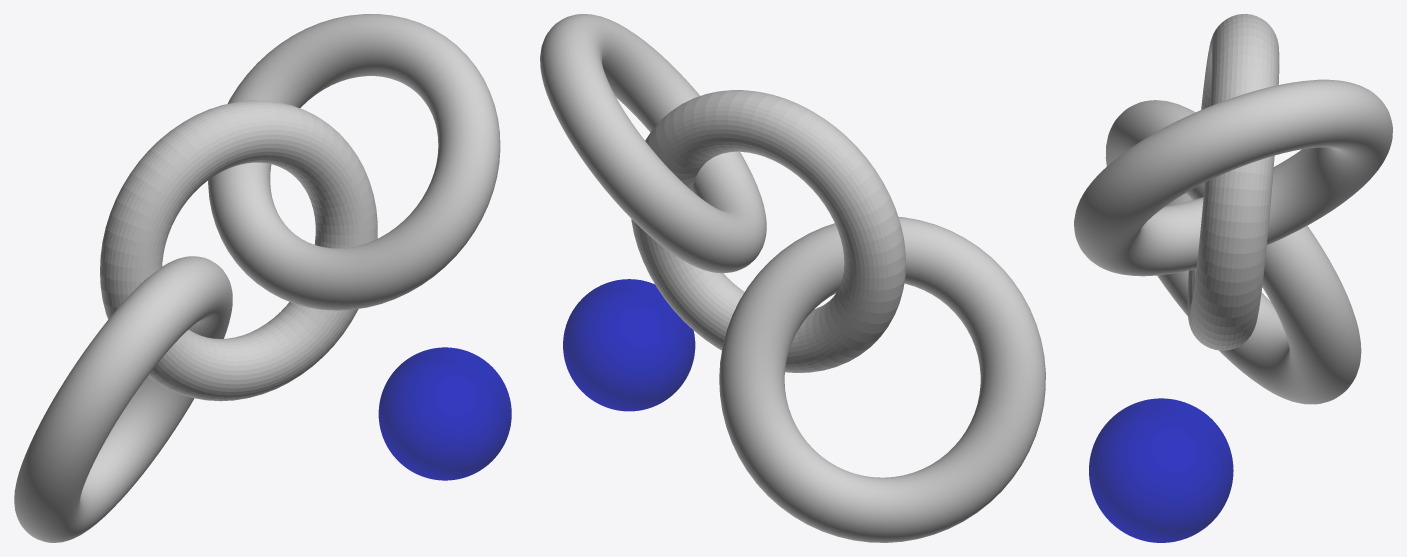
File: fuzzy.obj
3 renders of one model, left to right at view 1: azimuth 30°, elevation 25°; view 2: azimuth 150°, elevation 25°; view 3: azimuth 270°, elevation 25°, orthographic. The views are drawn at different scales.
Parts seen in each view (by area): view 1: Torus.001, Torus.002, Torus.003, Sphere; view 2: Torus.003, Torus.002, Torus.001, Sphere; view 3: Torus.001, Torus.003, Torus.002, Sphere.
Part boxes in pixels (x1,y1,x2,y2): Torus.001: (208, 14, 500, 310); Torus.002: (100, 100, 377, 401); Torus.003: (14, 256, 232, 542); Sphere: (378, 347, 511, 480); Torus.003: (719, 217, 1045, 542); Torus.002: (631, 90, 905, 372); Torus.001: (540, 14, 766, 273); Sphere: (563, 279, 695, 411); Torus.001: (1074, 79, 1392, 276); Torus.003: (1105, 100, 1361, 404); Torus.002: (1187, 14, 1279, 350); Sphere: (1089, 398, 1233, 542).
Bounding box in the file's own units: 8.21 × 7.16 × 4.41.
